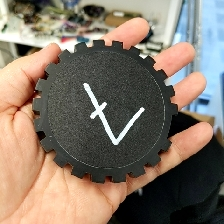gear: (30, 38, 179, 184)
missing: (160, 102, 179, 153)
